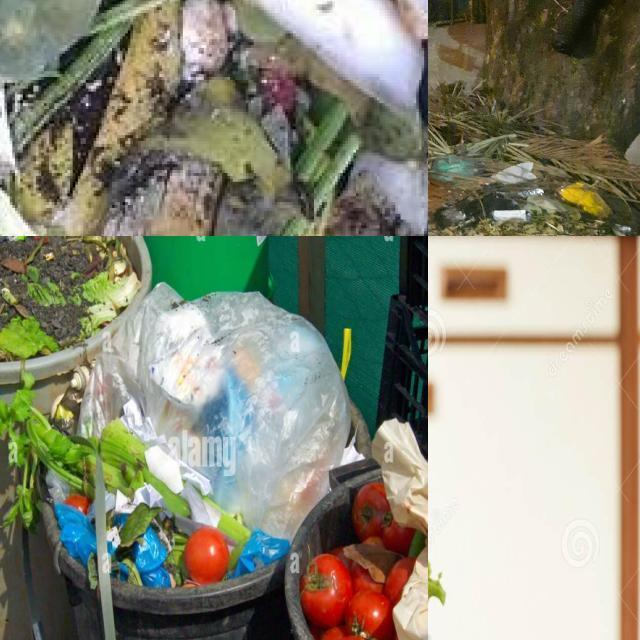Garbage: (0, 236, 370, 640), (428, 86, 640, 236), (300, 419, 428, 640)
Plastic_Bag: (81, 283, 351, 539), (435, 192, 522, 227), (227, 529, 289, 576), (55, 505, 97, 566), (132, 525, 172, 587), (558, 183, 613, 219), (431, 156, 484, 183), (113, 557, 129, 580)
